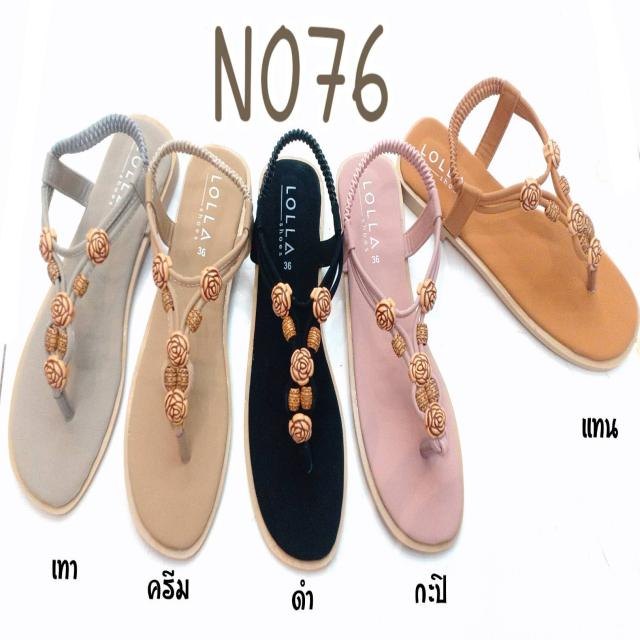black: (252, 157, 343, 562)
cream: (128, 140, 244, 552)
grey: (10, 116, 172, 512)
kapi: (342, 143, 464, 550)
tan: (405, 116, 640, 370)
